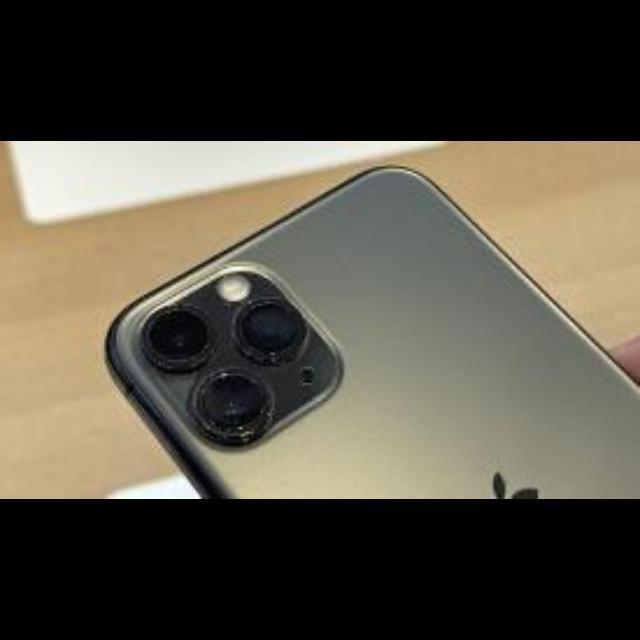Phone: (105, 167, 637, 499)
